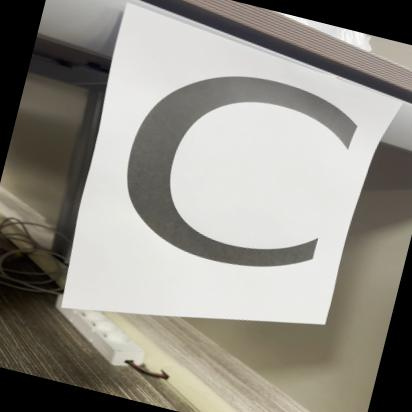seat: (63, 3, 402, 347)
